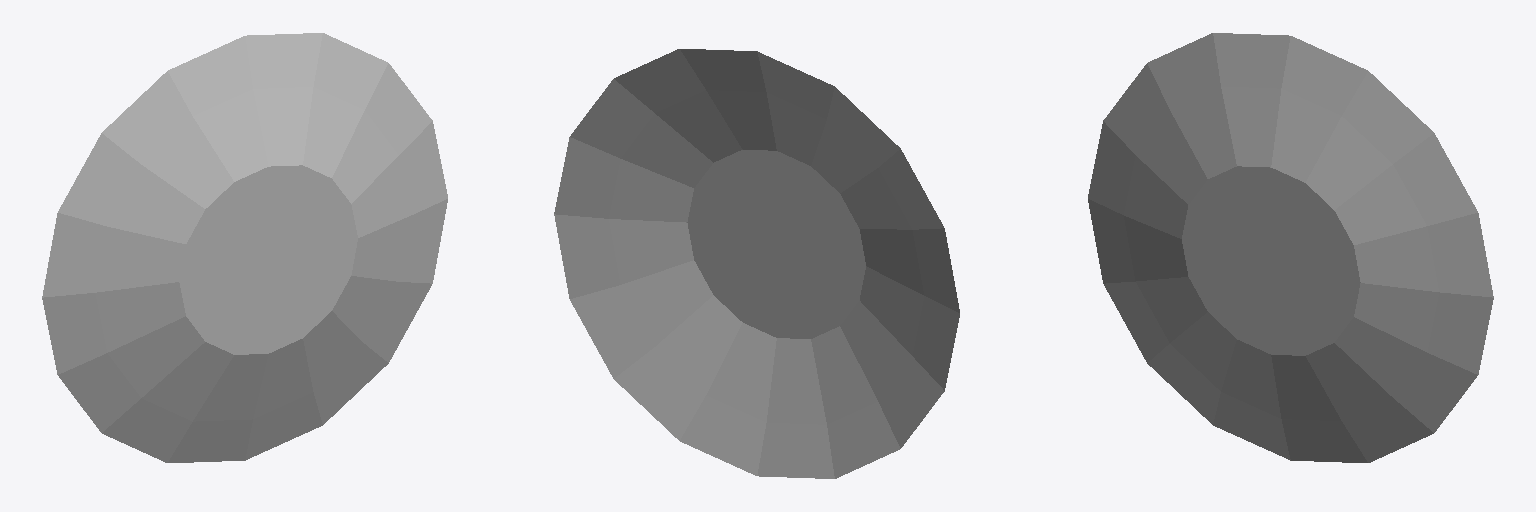
The model's file is water_hazard_basin.obj.
3 views of the same model, side by side, from view 1: azimuth 30°, elevation 25°; view 2: azimuth 150°, elevation 25°; view 3: azimuth 330°, elevation 25° (orthographic).
Parts seen in each view (by area): view 1: Torus.001; view 2: Torus.001; view 3: Torus.001.
Part boxes in pixels (x1,y1,x2,y2): Torus.001: (42,33,447,462); Torus.001: (554,49,959,478); Torus.001: (1088,33,1493,462).
Bounding box in the file's own units: 1.53 × 1.53 × 0.1406.